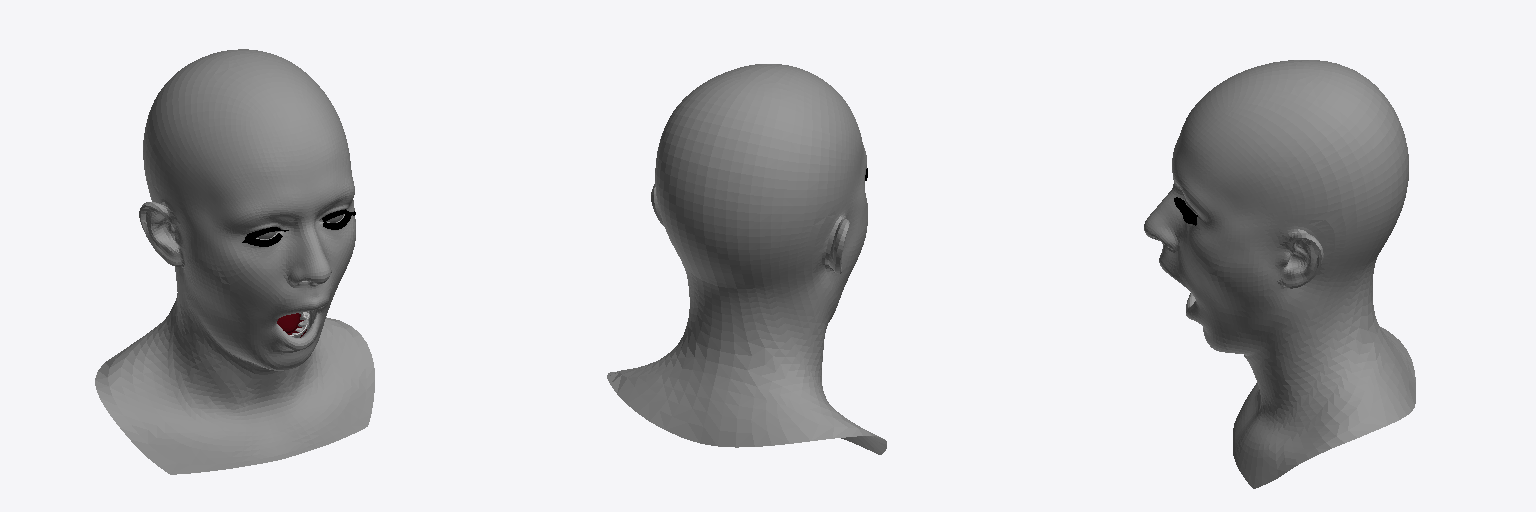
Rendered from jawOpen.obj.
3 views of the same model, side by side, from view 1: azimuth 30°, elevation 25°; view 2: azimuth 150°, elevation 25°; view 3: azimuth 270°, elevation 25° (orthographic).
Bounding box in the file's own units: 24.83 × 33.81 × 22.3.